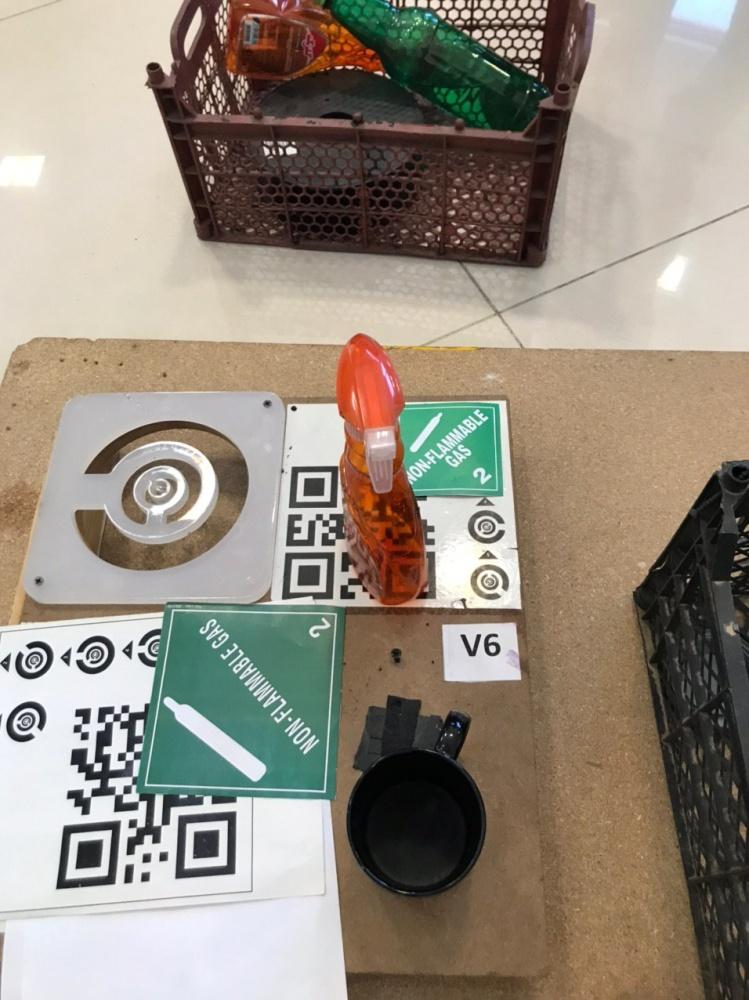non-flammable-gas: (139, 606, 348, 798), (389, 403, 500, 493)
